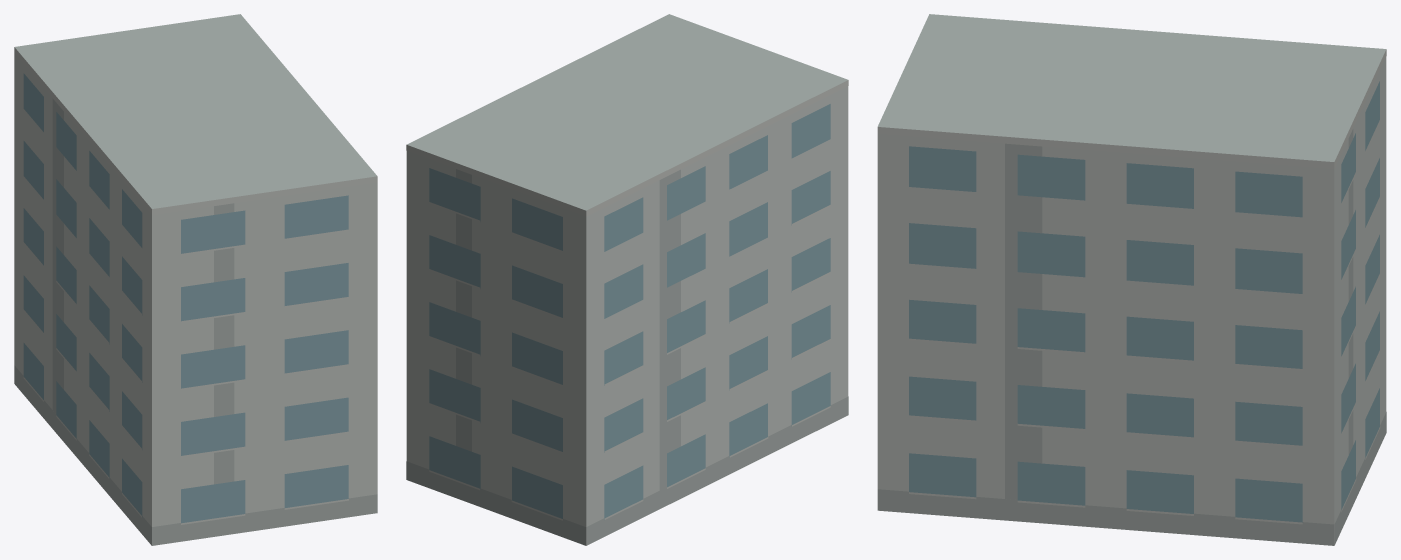
File: survey-upis-32884241.glb
The picture shows the model from 3 angles, left to right: view 1: azimuth 30°, elevation 25°; view 2: azimuth 150°, elevation 25°; view 3: azimuth 270°, elevation 25°; orthographic projection. The views are drawn at different scales.
Parts seen in each view (by area): view 1: survey-upis-32884241.tmp; view 2: survey-upis-32884241.tmp; view 3: survey-upis-32884241.tmp.
Part boxes in pixels (left/top/right/bottom): survey-upis-32884241.tmp: left=14, top=14, right=377, bottom=545; survey-upis-32884241.tmp: left=406, top=14, right=848, bottom=545; survey-upis-32884241.tmp: left=877, top=14, right=1386, bottom=545.
Bounding box in the file's own units: 11.1 × 13.4 × 16.12.
